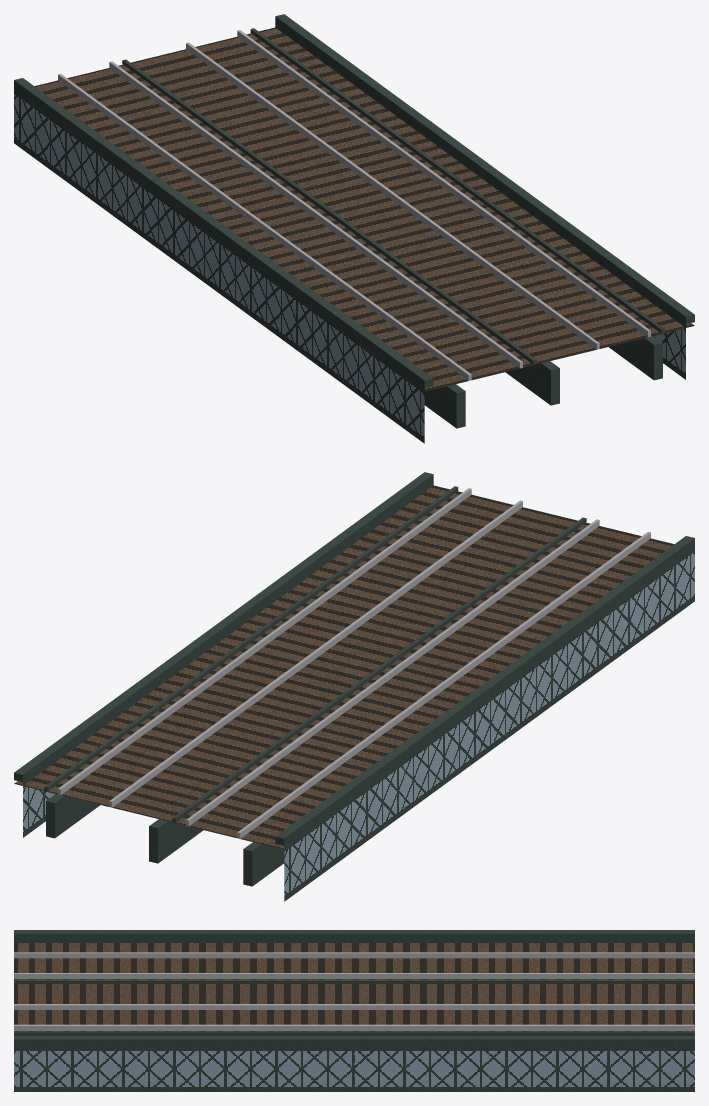
The model's file is l_deck.glb.
The picture shows the model from 3 angles, top to bottom: view 1: azimuth 30°, elevation 25°; view 2: azimuth 150°, elevation 25°; view 3: azimuth 270°, elevation 25°; orthographic projection. The views are drawn at different scales.
Parts seen in each view (by area): view 1: l_deck; view 2: l_deck; view 3: l_deck.
Part boxes in pixels (x1,y1,x2,y2): l_deck: [14, 14, 694, 443]; l_deck: [14, 472, 694, 901]; l_deck: [14, 930, 694, 1091].
Size of the model in its own units: 7.6 by 1.7 by 20.
Materials: 4 (4 with a texture image).
